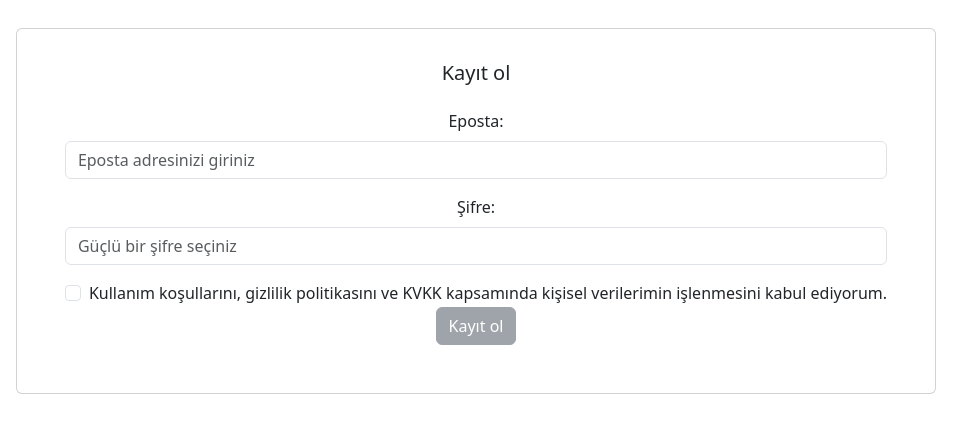
Scenario: login test run › correct email and password but no terms
The image size is (953, 424).
Step 1. Type "test@test.com" into the field with test id "email" → (476, 160), box [65,141,887,179]
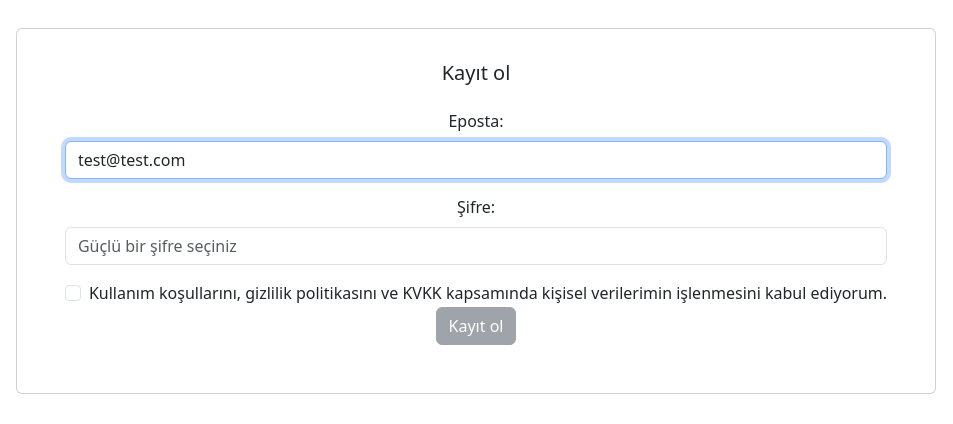
Step 2. Type "12Ab*cyrW*" into the password field with test id "password" → (476, 246), box [65,227,887,265]
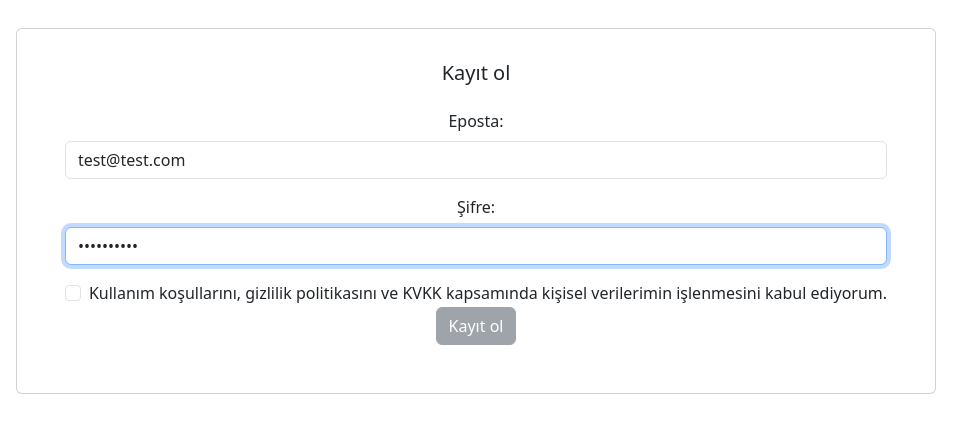
Step 3. Check the checkbox with test id "terms" → (73, 293), box [65,285,81,301]
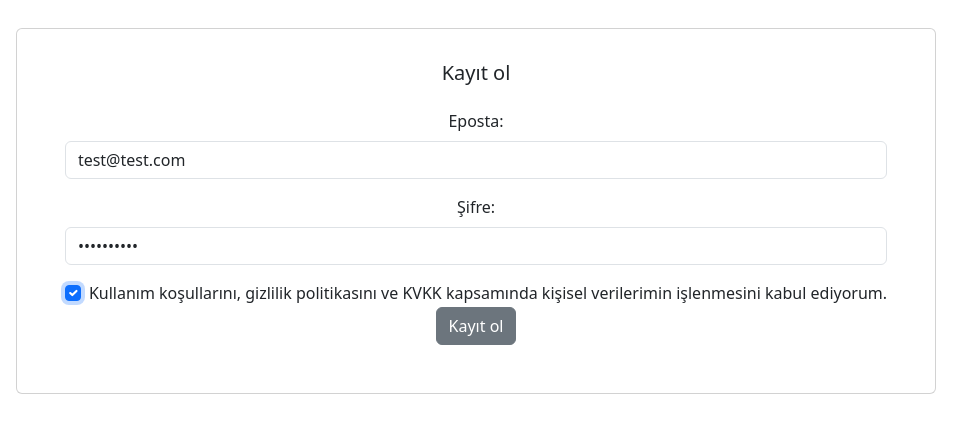
Result: the checkbox with test id "terms" is checked
Step 4. Uncheck the checkbox with test id "terms" → (73, 293), box [65,285,81,301]
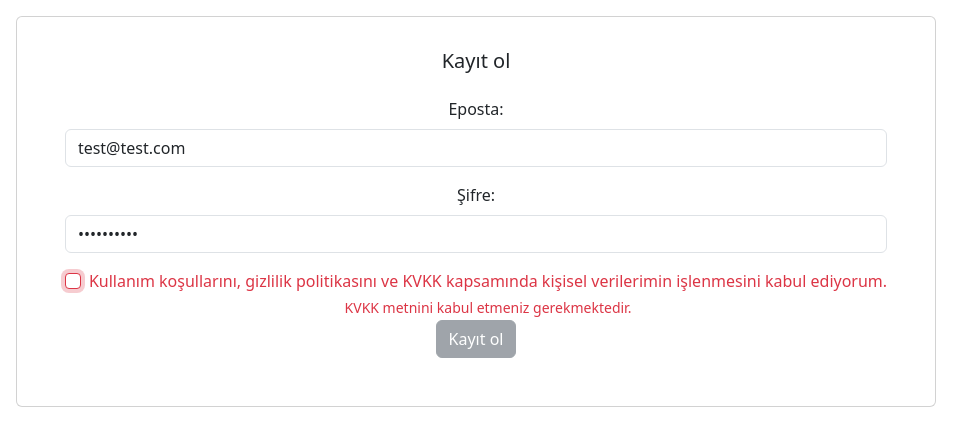
Expected: the element with test id "terms" is not checked
Result: the text "KVKK metnini kabul etmeniz gerekmektedir." is shown at [345,298,631,316]
Result: the button with test id "submitButton" is disabled at [436,320,517,358]
